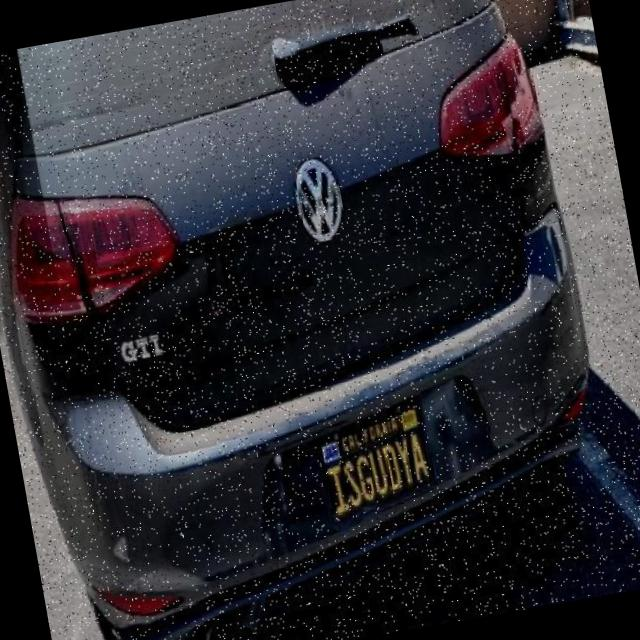LicensePlate: (312, 394, 445, 522)
